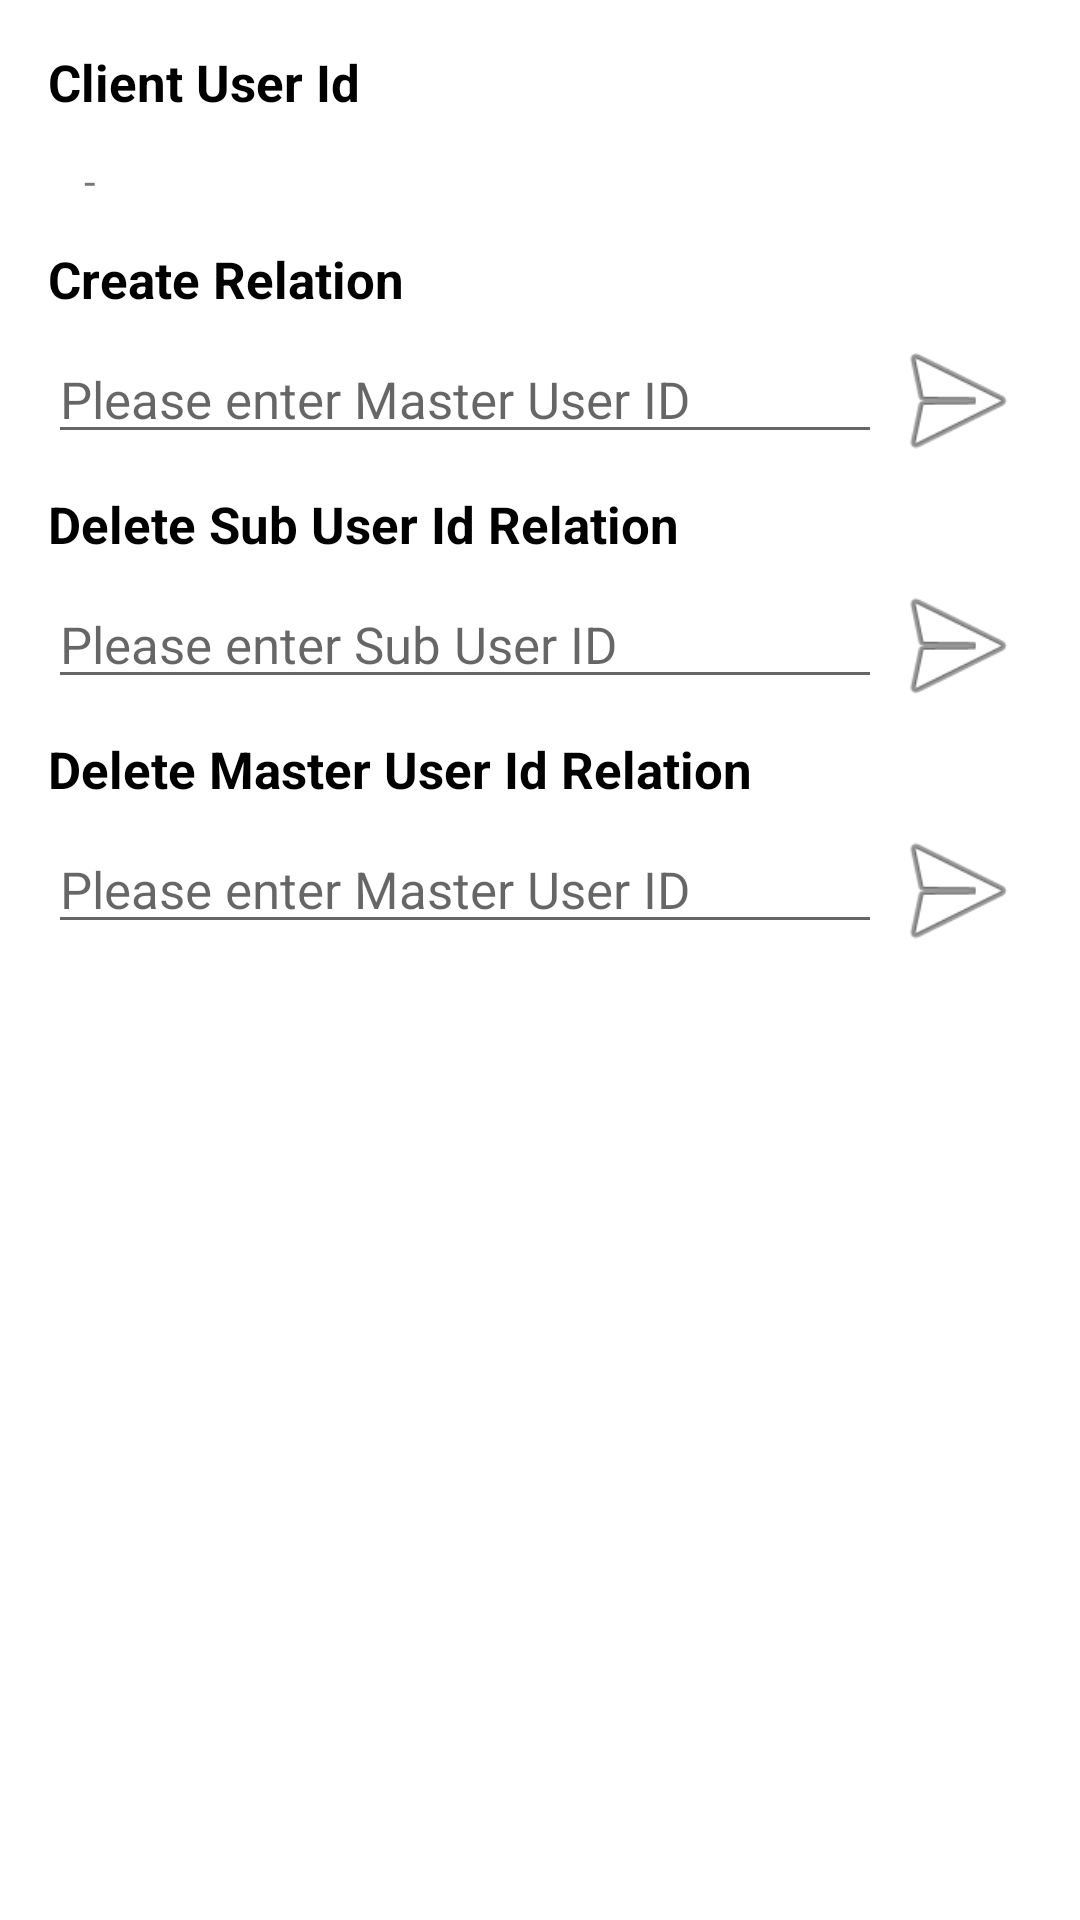

Icon bounding boxes for this 1080 x 1920 phone screenshot, format [x1,y1,x2,y2]:
send: [910,353,1006,448], [910,598,1006,693], [910,843,1006,938]
